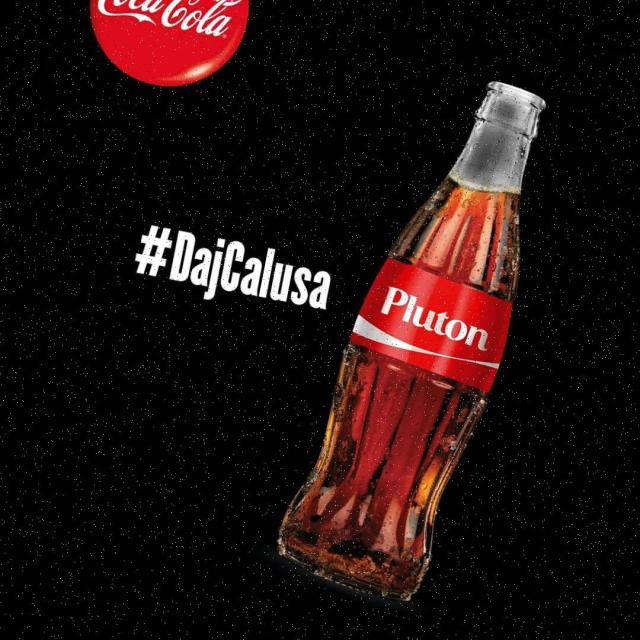coca-cola: (267, 50, 558, 613)
